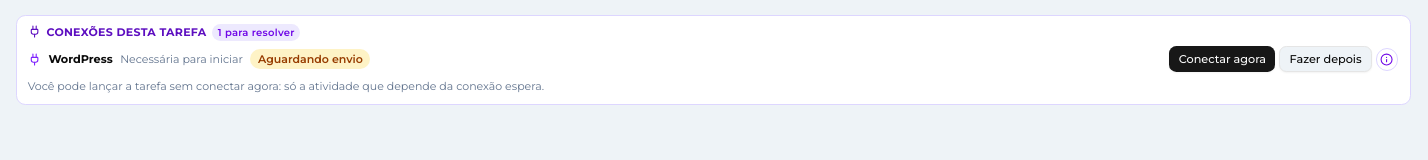
Test case: TaskLaunchConnections › 'Fazer depois' registra e a linha passa a dizer 'Fica para depois' — sem travar nada
Step 1. Click the button "Fazer depois" → (1326, 59), box [1279,46,1372,72]
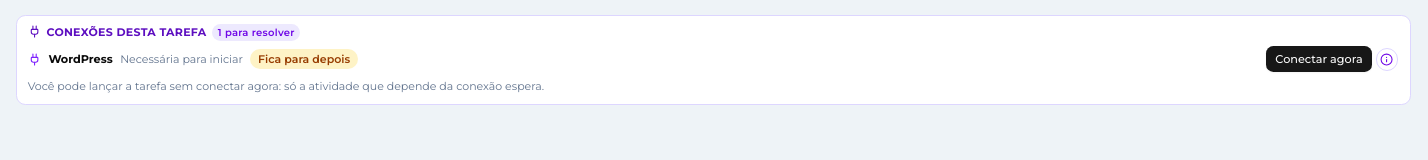
Expected: the button "Conectar agora" is shown, [1266,46,1372,72]
Result: the text "Fica para depois" is shown at [250,49,358,69]
Result: the button "Fazer depois" is gone
